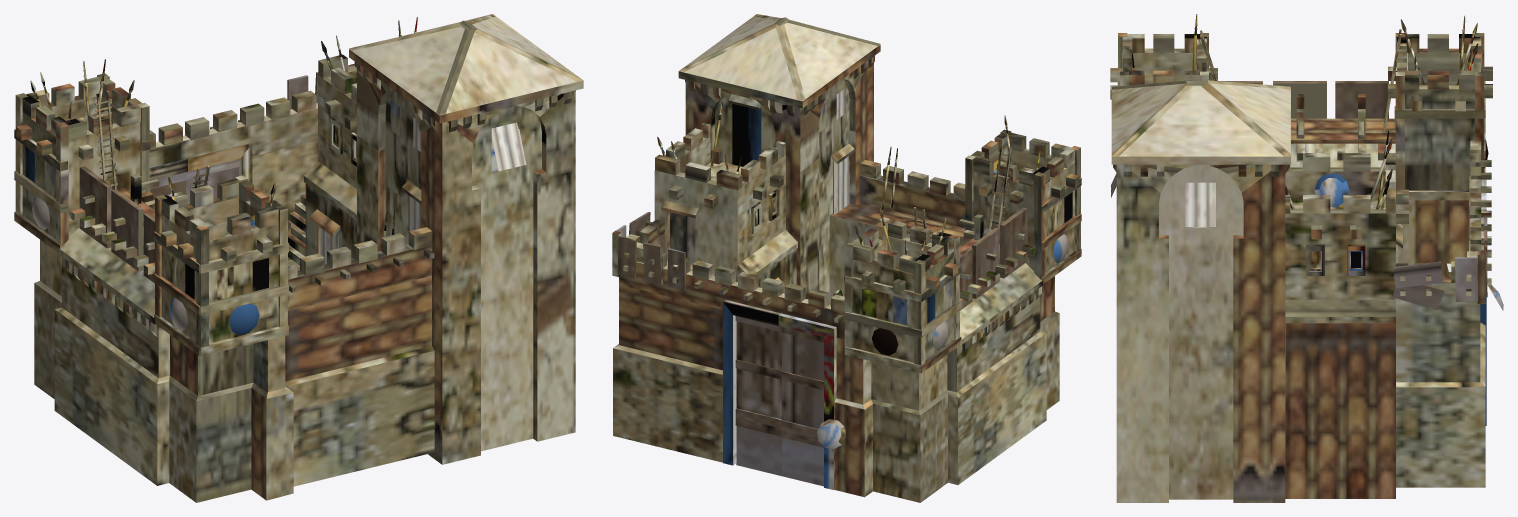
File: fortress.glb
3 views of the same model, side by side, from view 1: azimuth 30°, elevation 25°; view 2: azimuth 150°, elevation 25°; view 3: azimuth 270°, elevation 25° (orthographic). The views are drawn at different scales.
Parts seen in each view (by area): view 1: fortress; view 2: fortress; view 3: fortress.
Boxes of the visible parts, box(x1,y1,x2,y2) form: fortress: box(14, 14, 583, 502); fortress: box(612, 14, 1081, 502); fortress: box(1110, 14, 1503, 502).
Bounding box in the file's own units: 6 × 5.82 × 5.32.
Materials: 5 (5 with a texture image).
